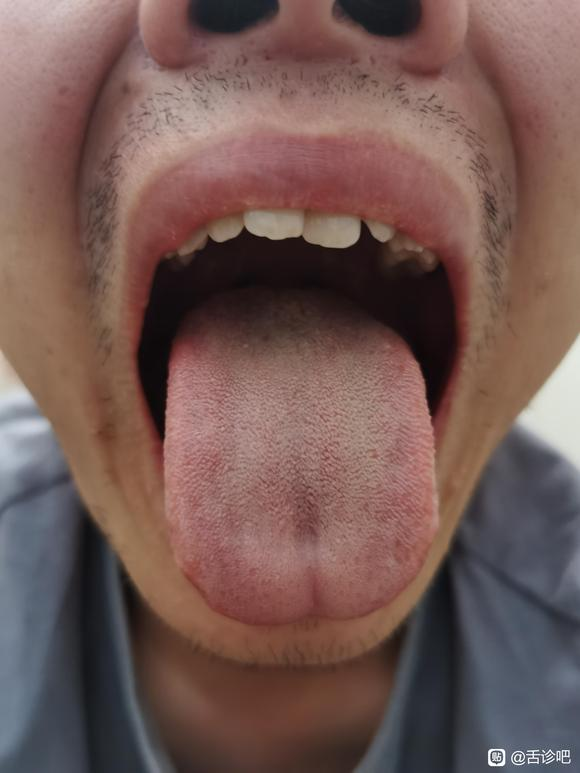baitaishe: (163, 298, 437, 625)
chihenshe: (163, 507, 217, 610)
piweiao: (263, 496, 352, 579)
xinfeiao: (267, 586, 360, 625)
